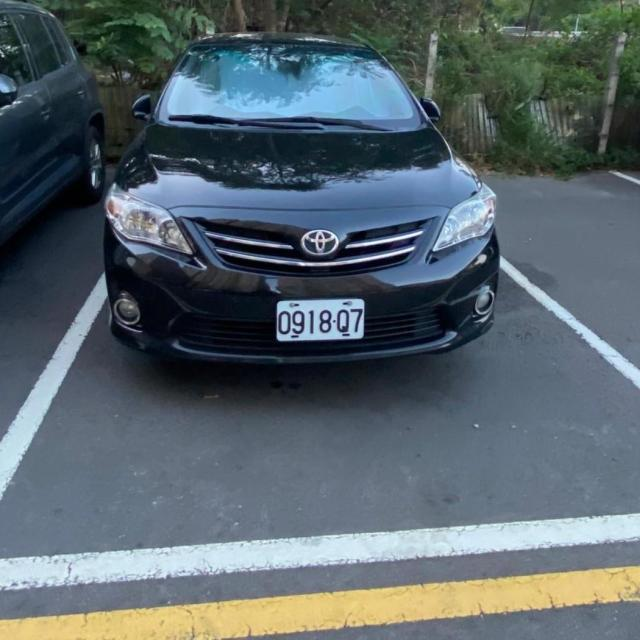W: (274, 296, 367, 346)
